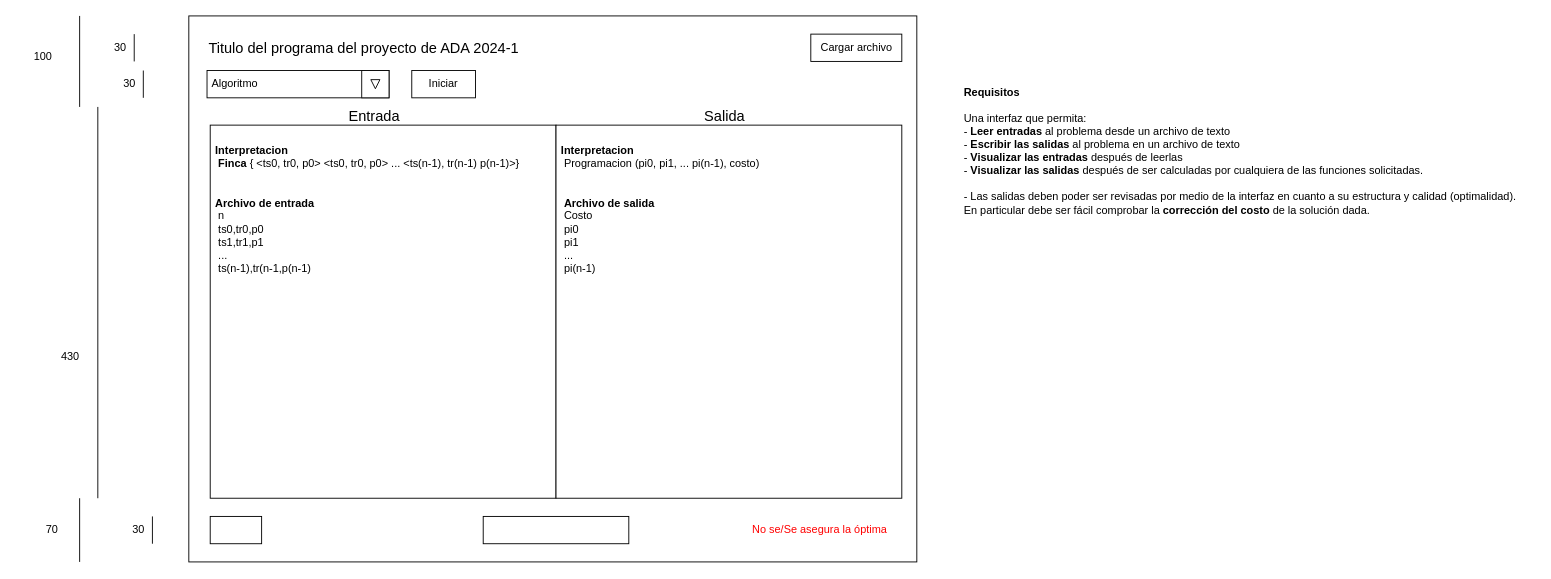
This 1551x579 diagram has some shape labels left out. Each missing label, with the centre of its shape:
"Exportar solucion" belongs at (x=555, y=530).
"Sobre" belongs at (x=235, y=530).
